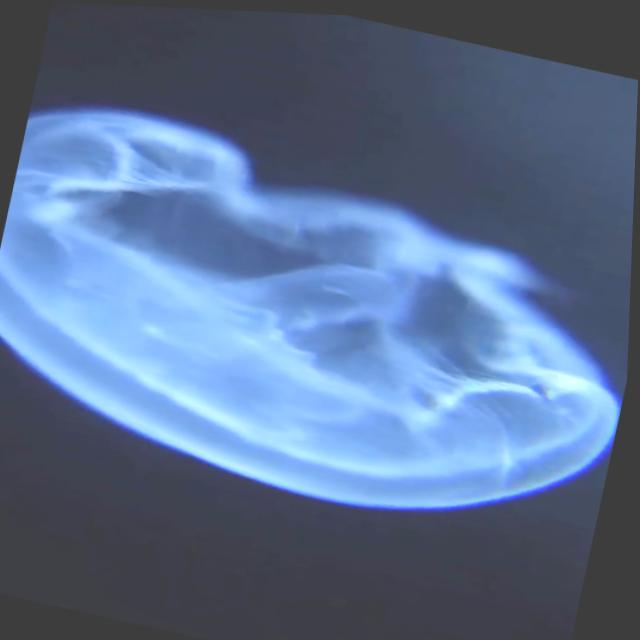Moon-jellyfish: (0, 103, 624, 507)
